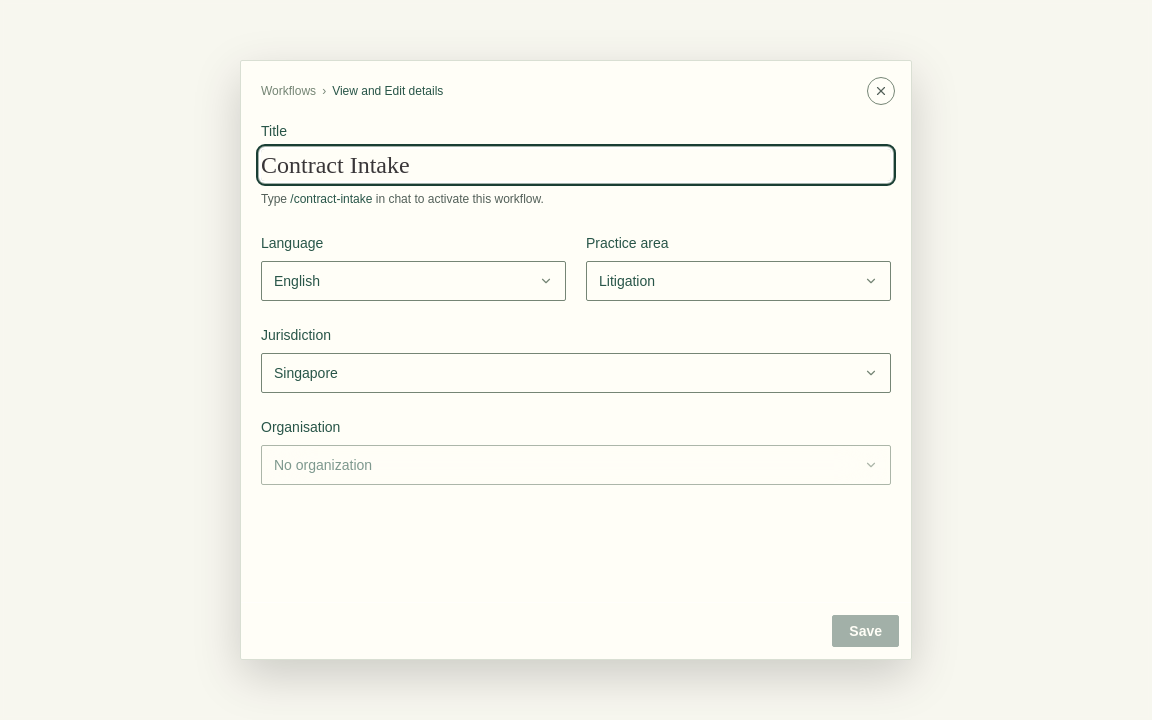
Test: NewWorkflowModal editing › disables Save until details change
This screenshot has width=1152, height=720.
expect the button named "Save" is disabled: met, box [832,615,899,647]
Replace the text in the field labelled "Title" with "Contract Review" at (576, 165), box [261,149,891,181]
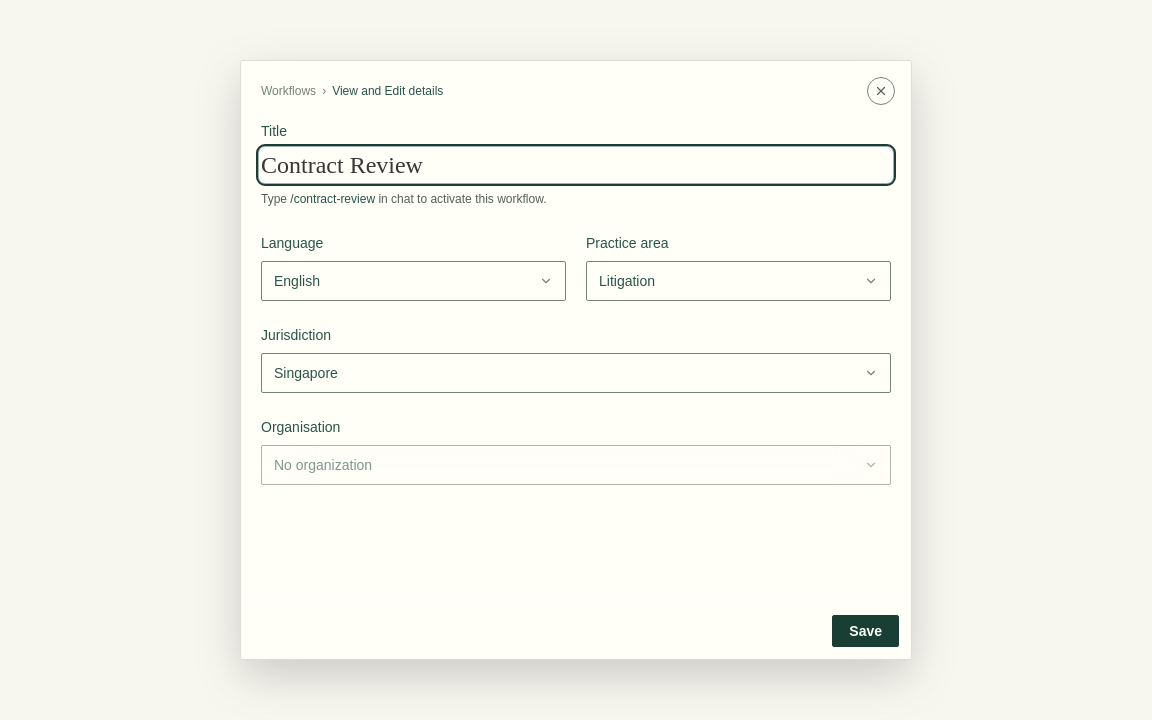
expect the button named "Save" is enabled: met, box [832,615,899,647]
Replace the text in the field labelled "Title" with "Contract Intake" at (576, 165), box [261,149,891,181]
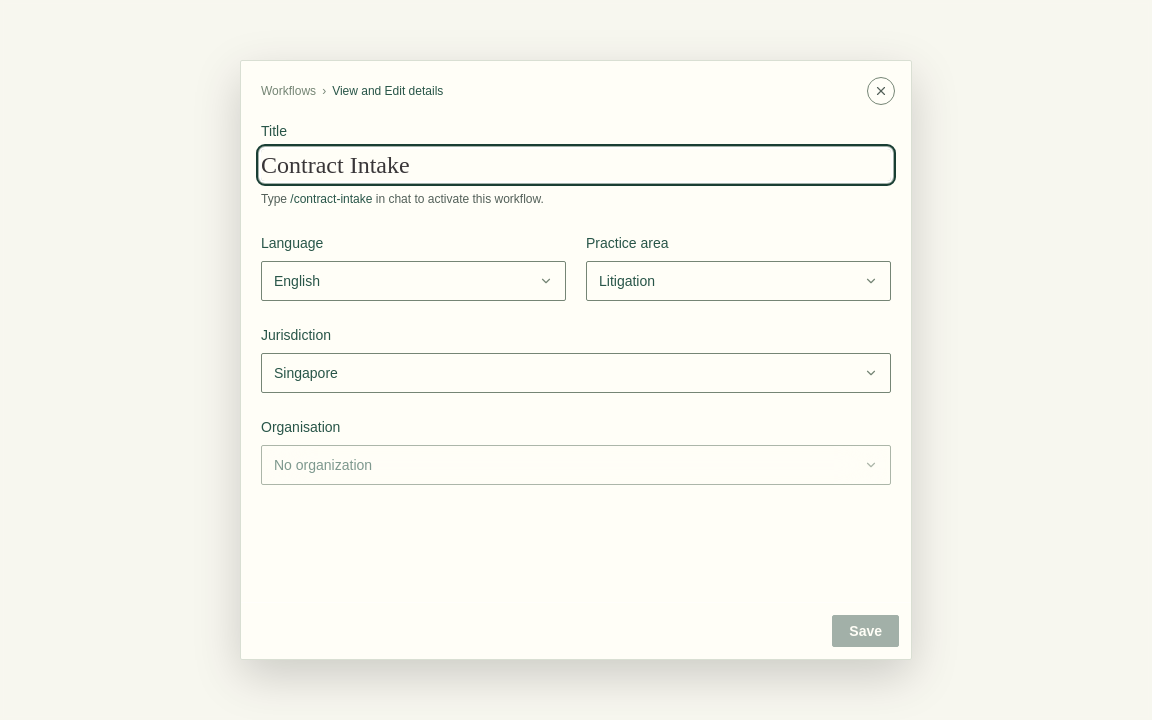
expect the button named "Save" is disabled: met, box [832,615,899,647]
